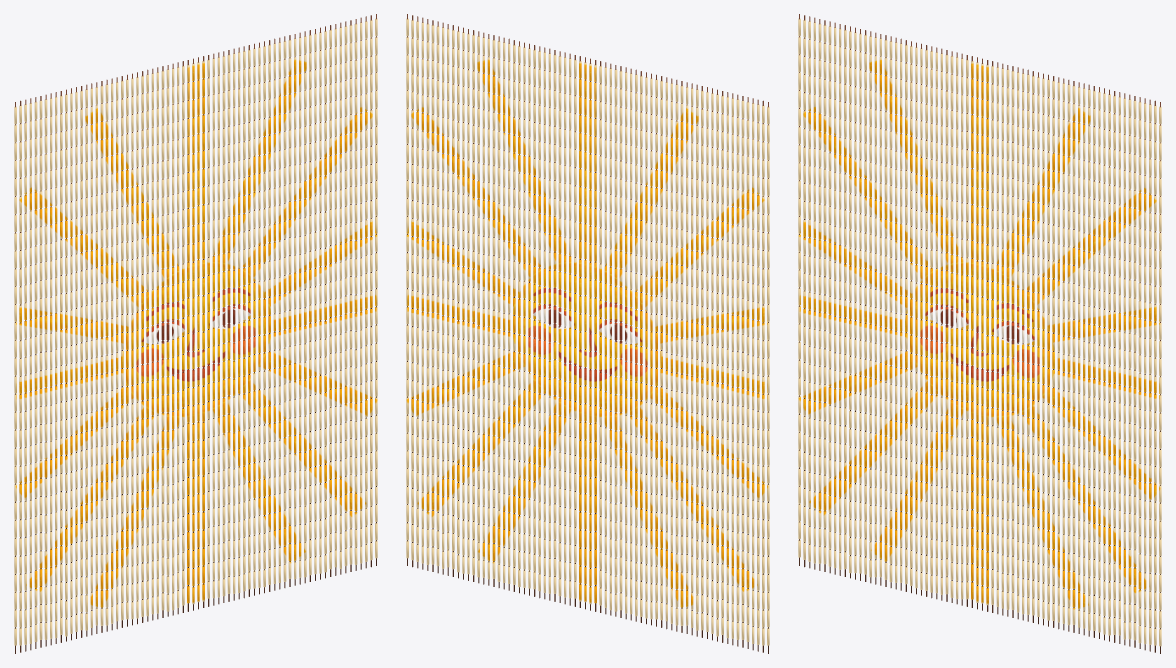
Rendered from bead_curtain_sun.glb.
3 views of the same model, side by side, from view 1: azimuth 30°, elevation 25°; view 2: azimuth 150°, elevation 25°; view 3: azimuth 330°, elevation 25° (orthographic).
Parts seen in each view (by area): view 1: Curtain_Beads, Curtain_Threads; view 2: Curtain_Beads, Curtain_Threads; view 3: Curtain_Beads, Curtain_Threads.
Boxes of the visible parts, left/top/right/bottom form: Curtain_Beads: left=14, top=18, right=377, bottom=645; Curtain_Threads: left=15, top=14, right=376, bottom=653; Curtain_Beads: left=406, top=18, right=769, bottom=645; Curtain_Threads: left=407, top=14, right=768, bottom=653; Curtain_Beads: left=798, top=18, right=1161, bottom=646; Curtain_Threads: left=799, top=14, right=1160, bottom=653.
Bounding box in the file's own units: 1.93 × 2.8 × 0.012.
2 materials, 1 textured.
